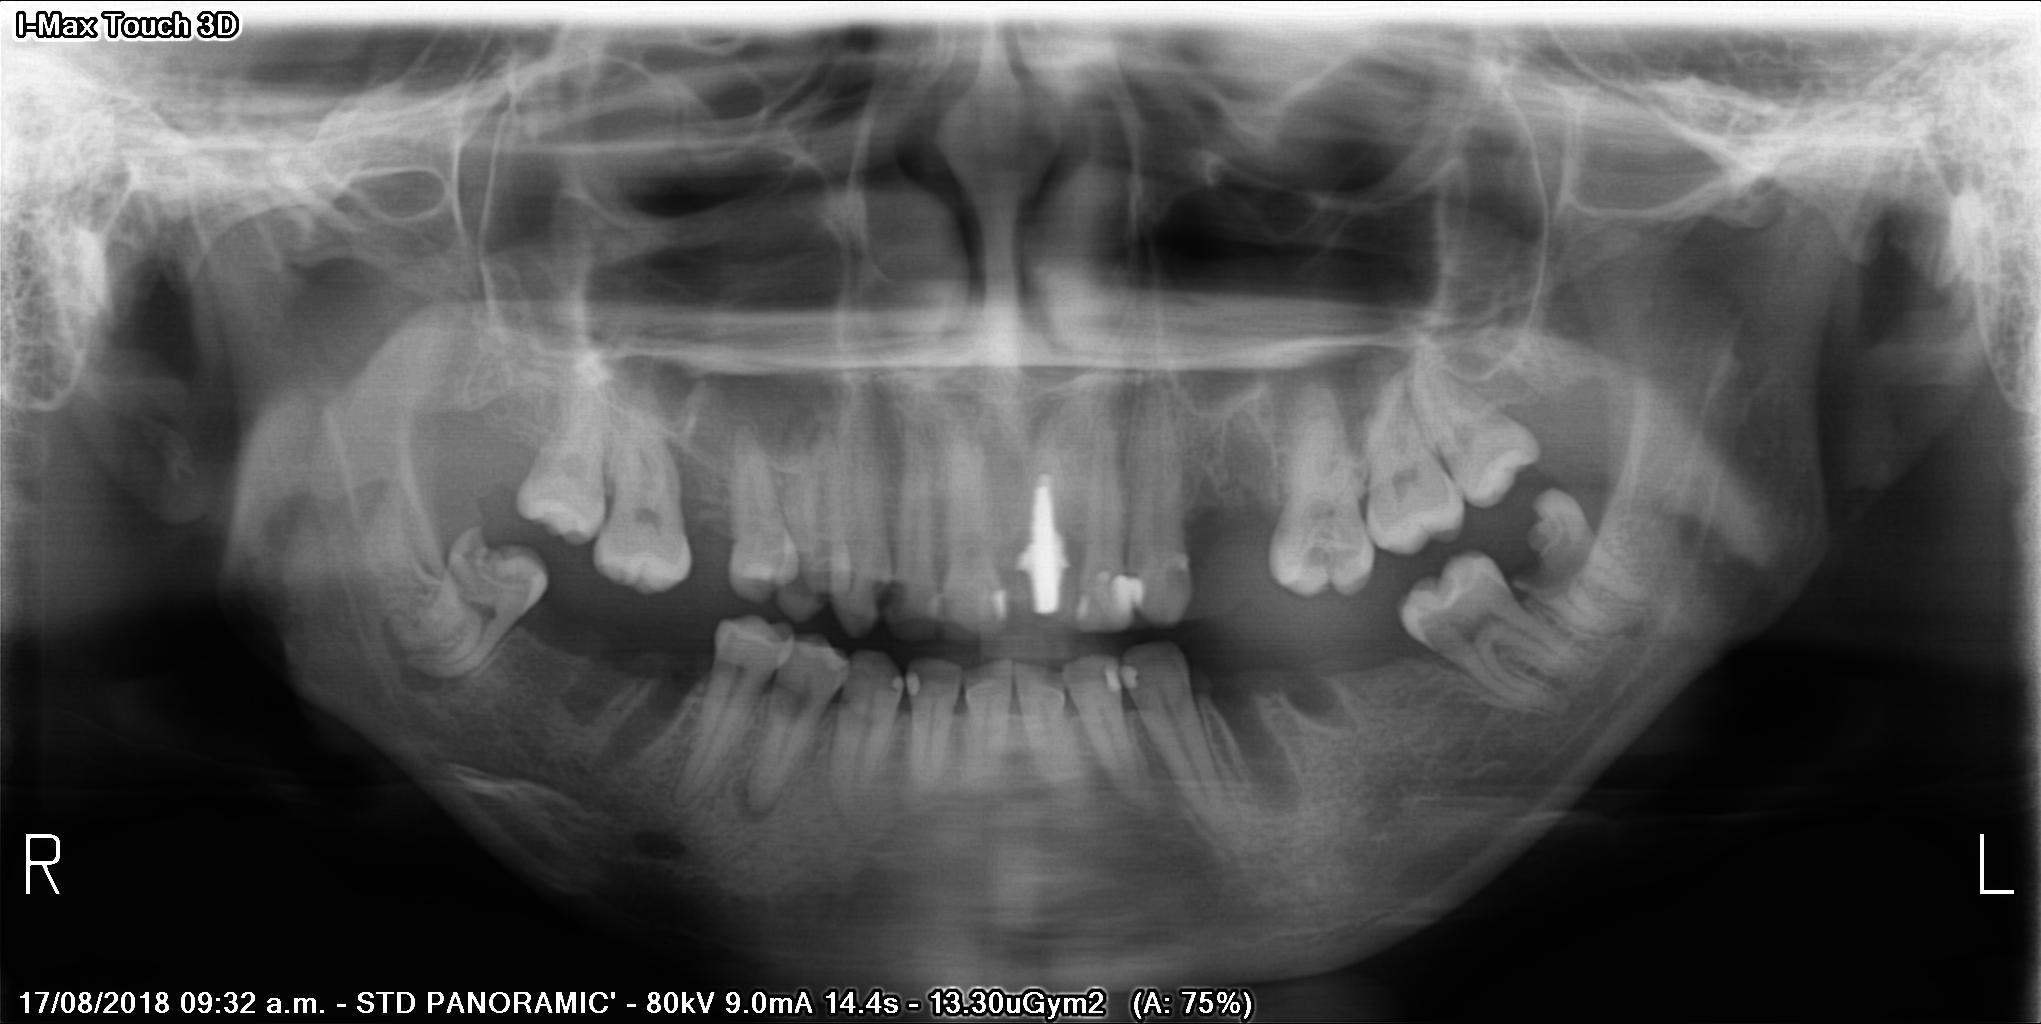Çürük: (1015, 481, 1072, 614), (1114, 579, 1145, 607), (1122, 661, 1137, 700), (1103, 661, 1120, 694), (904, 673, 918, 694), (893, 671, 906, 692)
Çürük Bölgesi: (1517, 516, 1590, 596), (454, 522, 513, 584), (868, 576, 909, 614), (914, 669, 930, 700), (1114, 568, 1147, 576)
